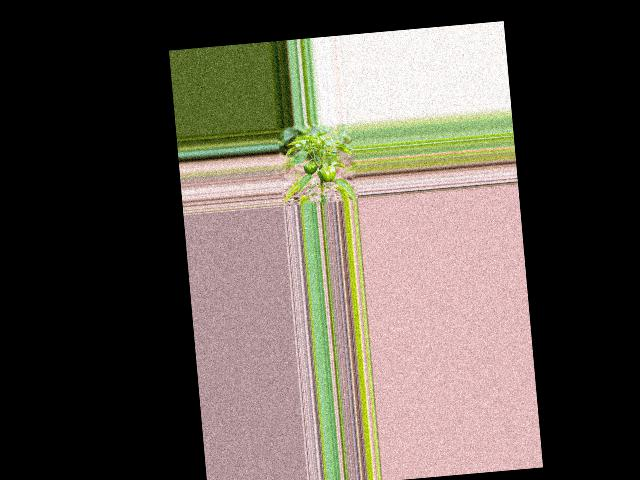bell_pepper: (302, 160, 318, 176)
